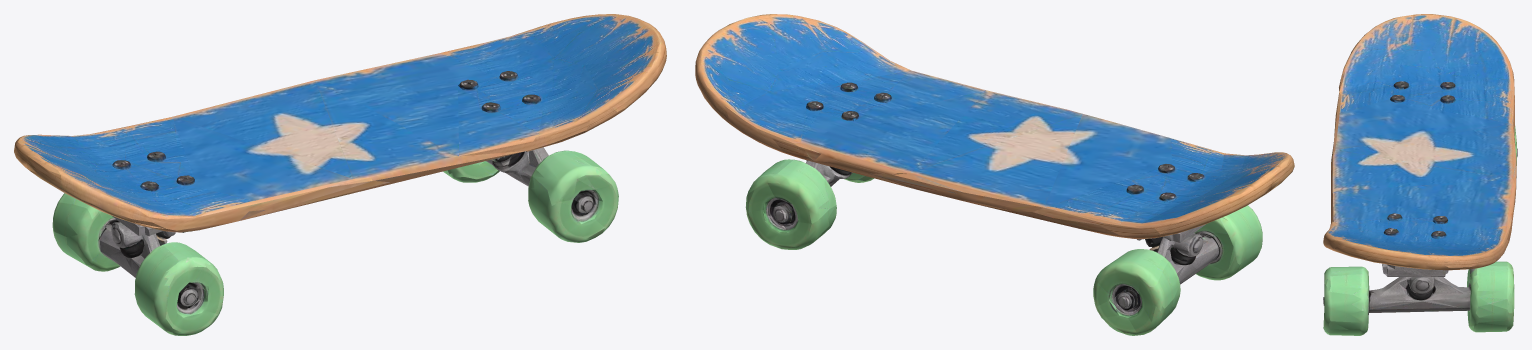
Rendered from ride_skateboard.glb.
The picture shows the model from 3 angles, left to right: view 1: azimuth 30°, elevation 25°; view 2: azimuth 150°, elevation 25°; view 3: azimuth 270°, elevation 25°; orthographic projection. The views are drawn at different scales.
Size of the model in its own units: 1.9 by 0.4857 by 0.6548.
Materials: 1 (1 with a texture image).
